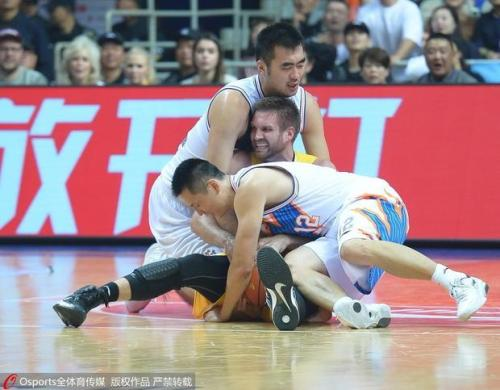10+: (1, 1, 499, 335)
down: (47, 94, 339, 332), (169, 151, 492, 334)
